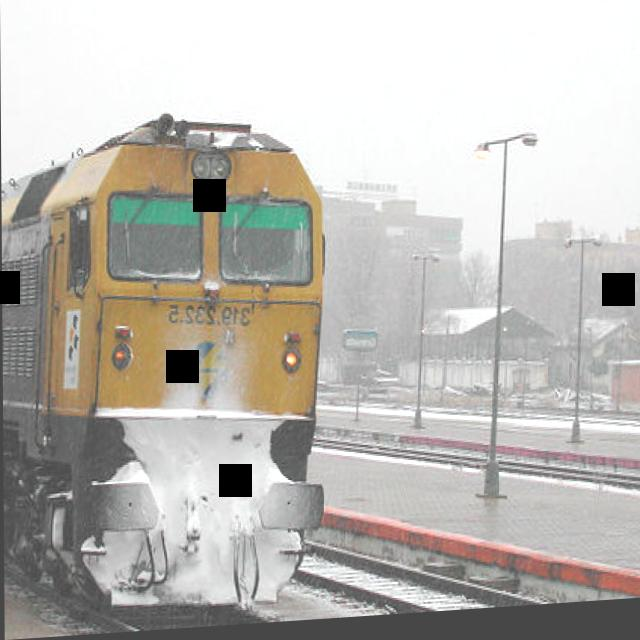locomotive: (2, 86, 344, 640)
